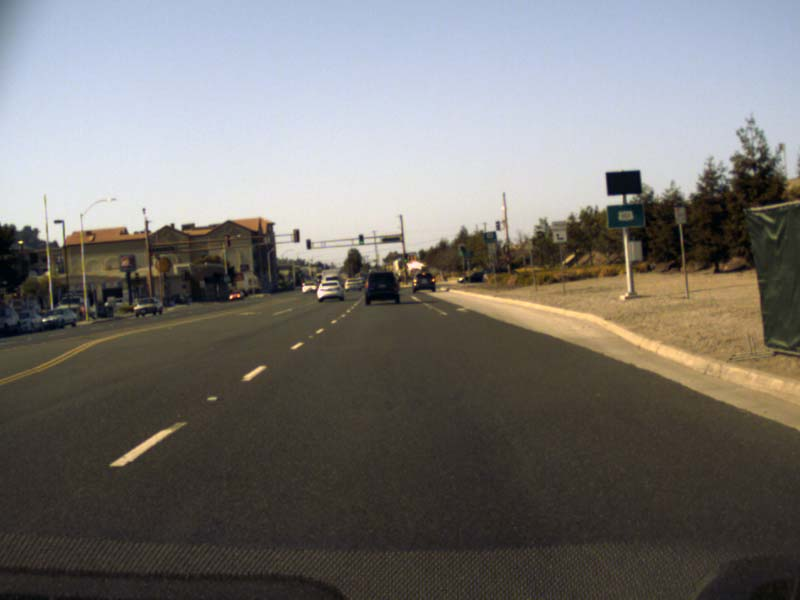Green: (358, 233, 363, 244), (458, 246, 463, 256), (403, 253, 406, 262)
